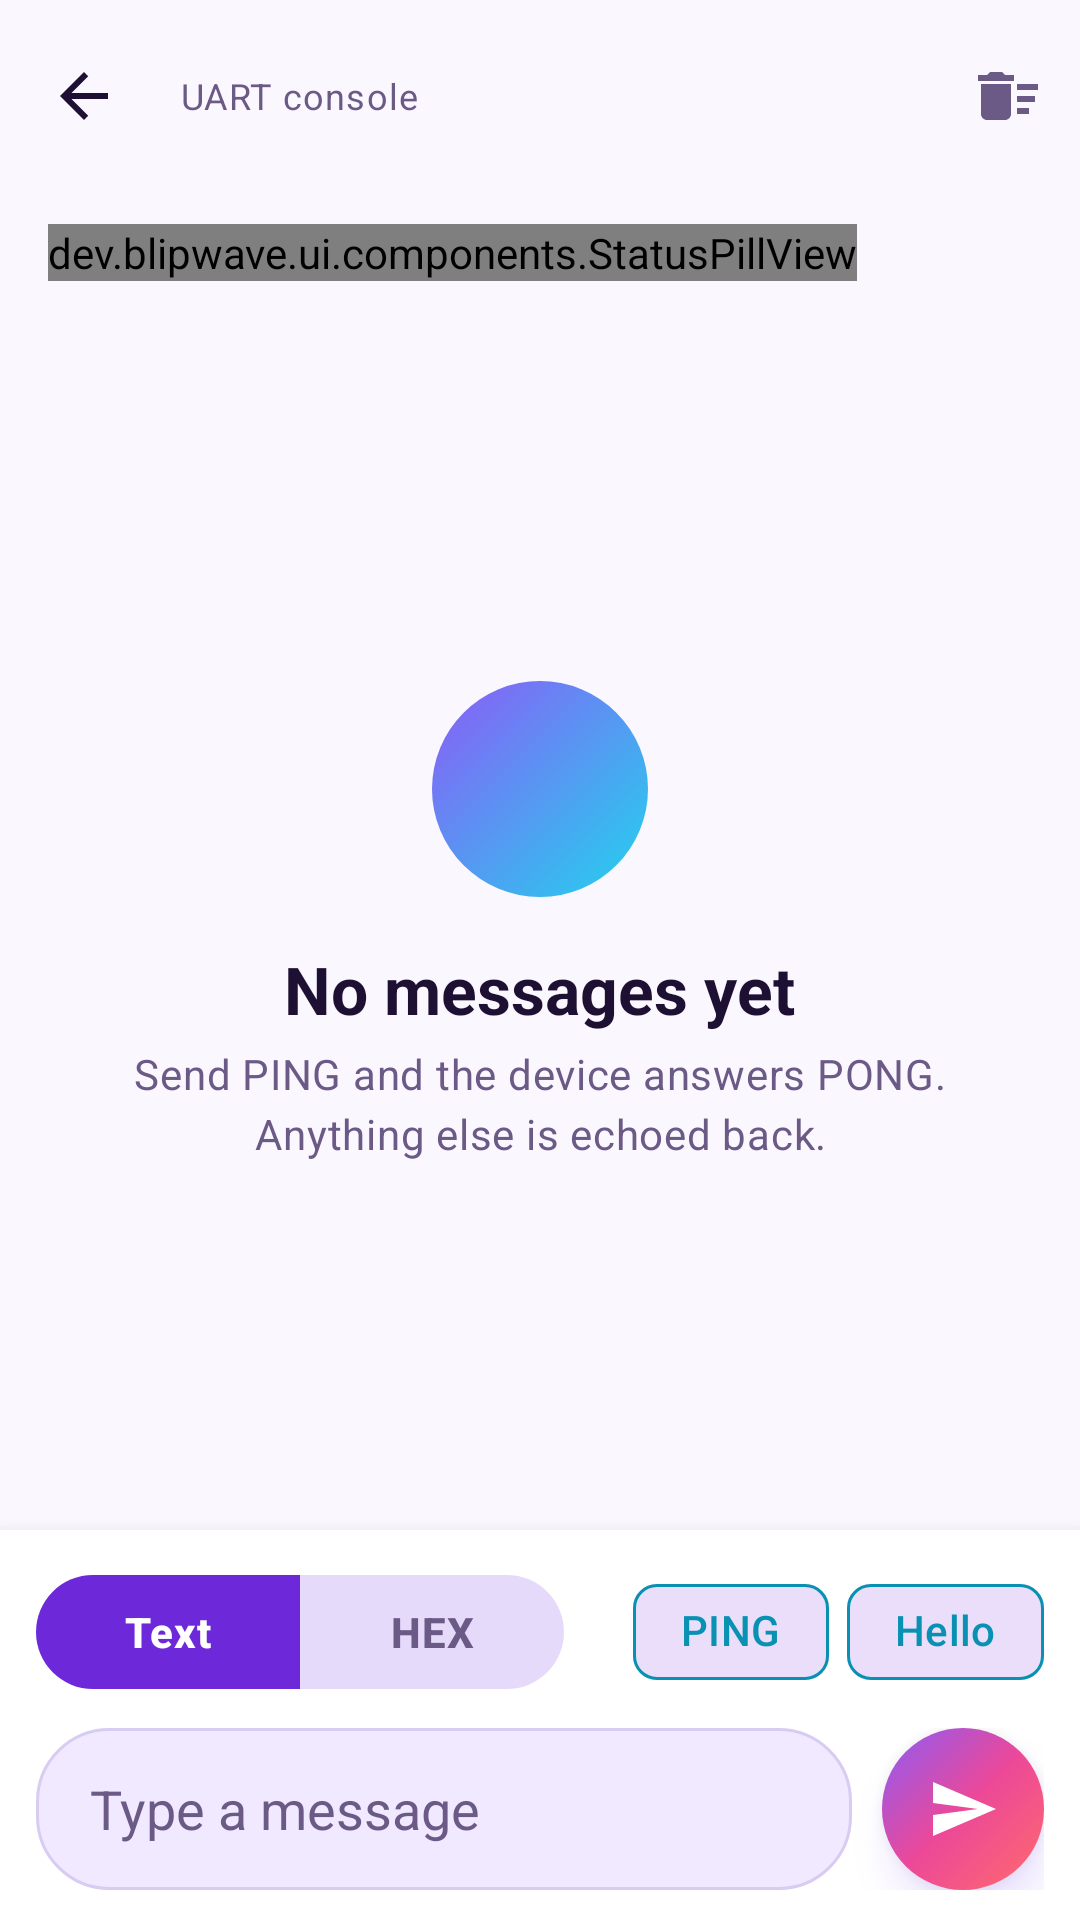

Named icons in this screenshot (1080 x 1920) and their bounding boxes, [x1=x1, y1=y1, x2=x2, y2=y2]:
send: [x1=927, y1=1773, x2=996, y2=1836]
